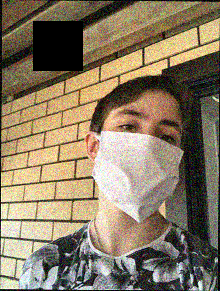with_mask: (90, 105, 185, 223)
